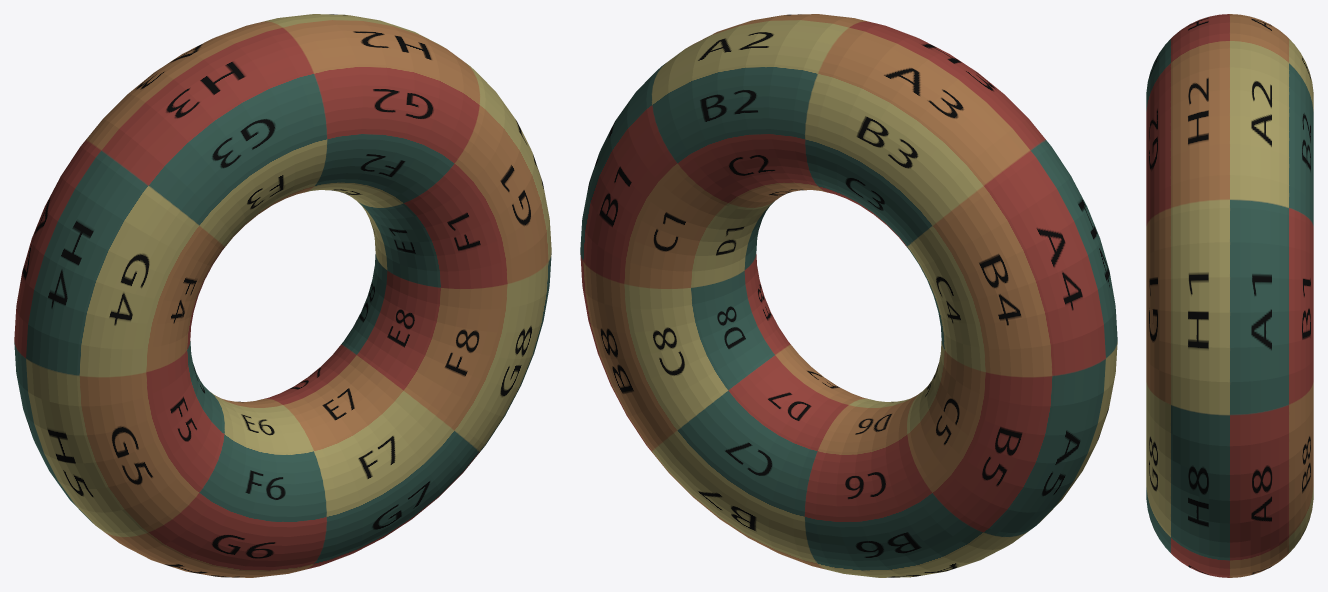
The model's file is texture_torus_R12_r21.glb.
The picture shows the model from 3 angles, left to right: view 1: azimuth 30°, elevation 25°; view 2: azimuth 150°, elevation 25°; view 3: azimuth 270°, elevation 25°; orthographic projection. The views are drawn at different scales.
Visible parts, largest first — view 1: world; view 2: world; view 3: world.
Part boxes in pixels (x1=…): world: x1=14, y1=14, x2=551, y2=577; world: x1=580, y1=14, x2=1117, y2=577; world: x1=1146, y1=14, x2=1313, y2=577.
Bounding box in the file's own units: 25.6 × 25.55 × 7.59.
Materials: 1 (1 with a texture image).
